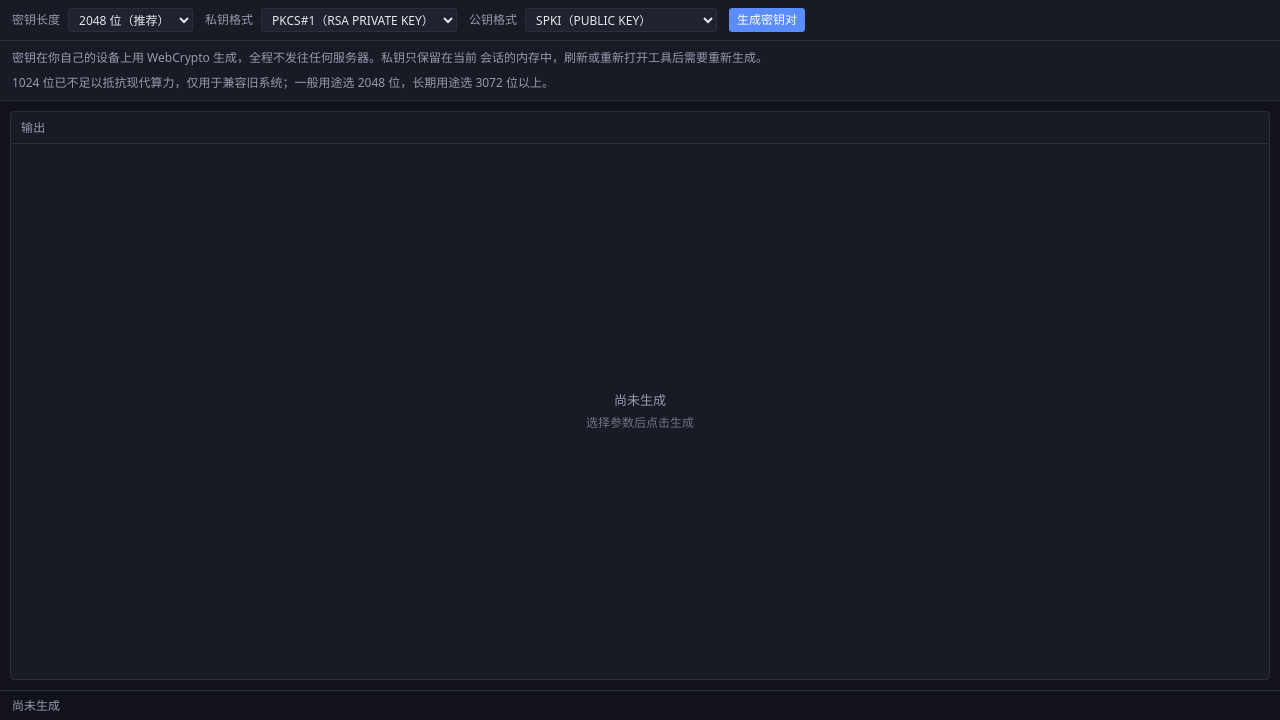
Test: RSA 密钥对生成器 › 重新点击生成后应用新参数并刷新结果
Click the button "生成密钥对": (767, 20) x1=729 y1=8 x2=805 y2=32
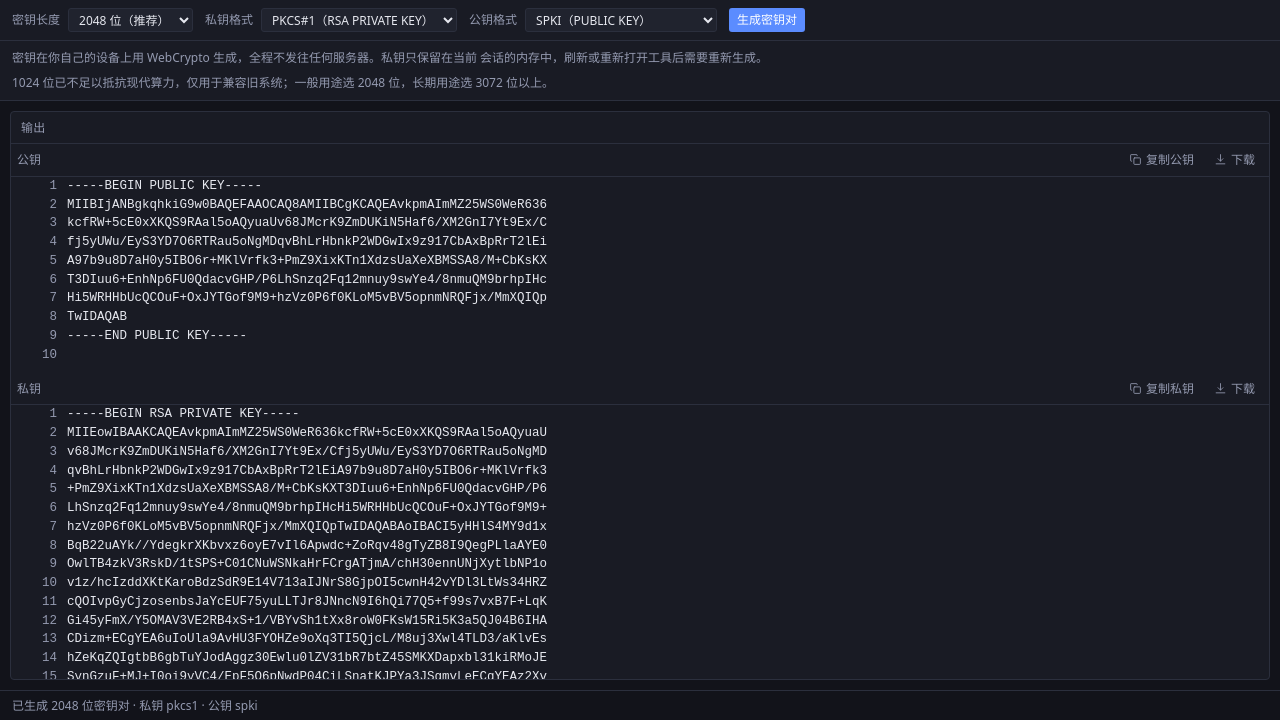
Note: 密钥长度与私钥格式一起改：只改长度的话，「私钥格式写死 pkcs1」的变异仍可存活
Select "1024 位" in the dropdown labelled "密钥长度": (130, 20) x1=68 y1=8 x2=193 y2=32
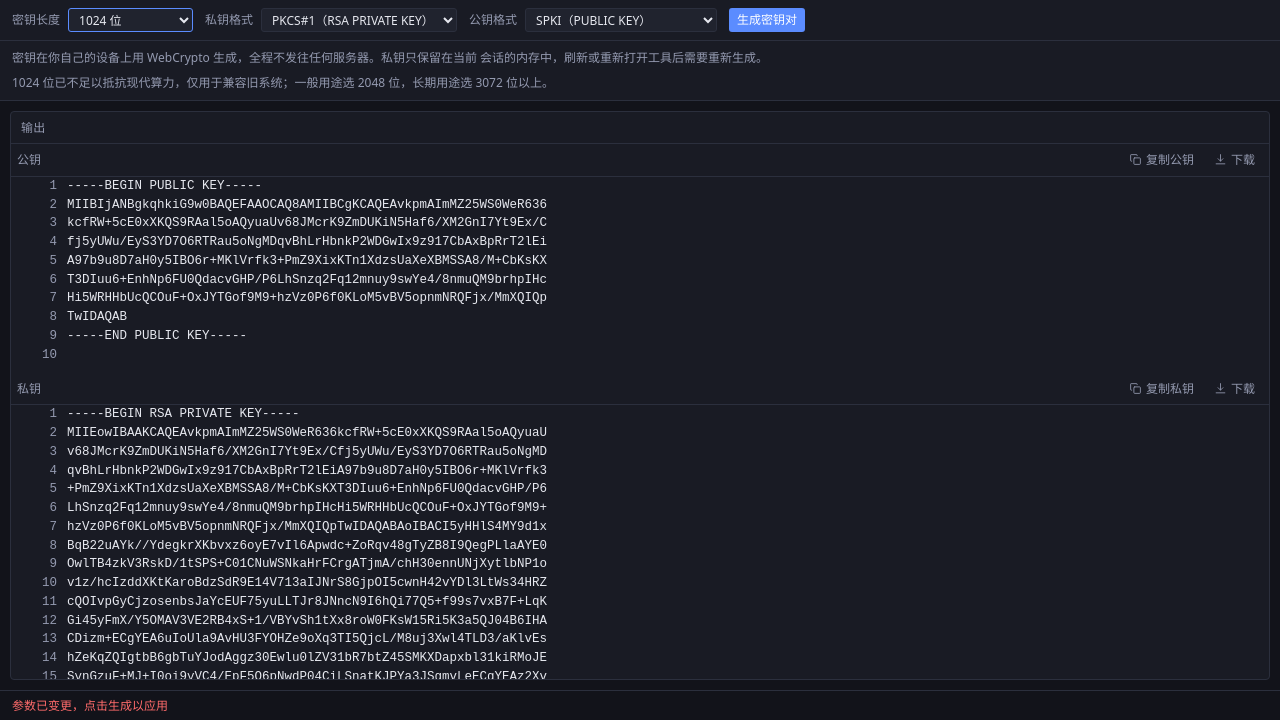
Select "PKCS#8（PRIVATE KEY）" in the dropdown labelled "私钥格式": (359, 20) x1=261 y1=8 x2=457 y2=32
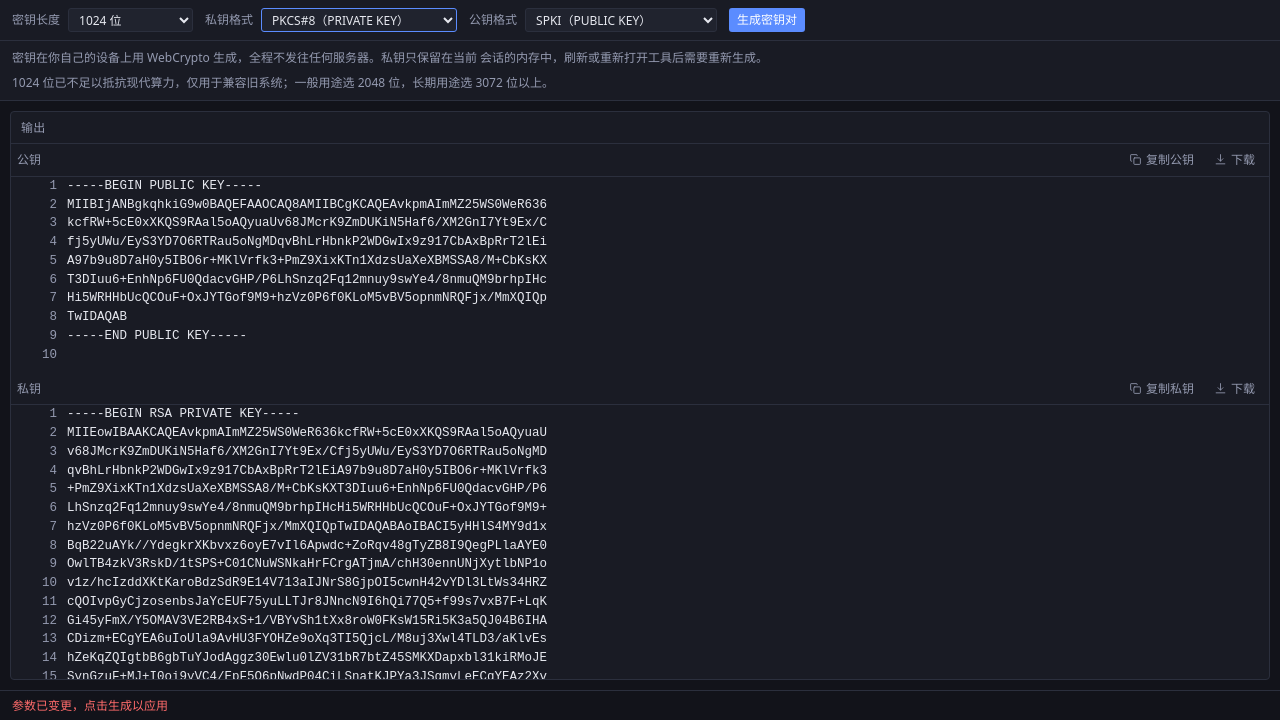
Click the button "生成密钥对": (767, 20) x1=729 y1=8 x2=805 y2=32
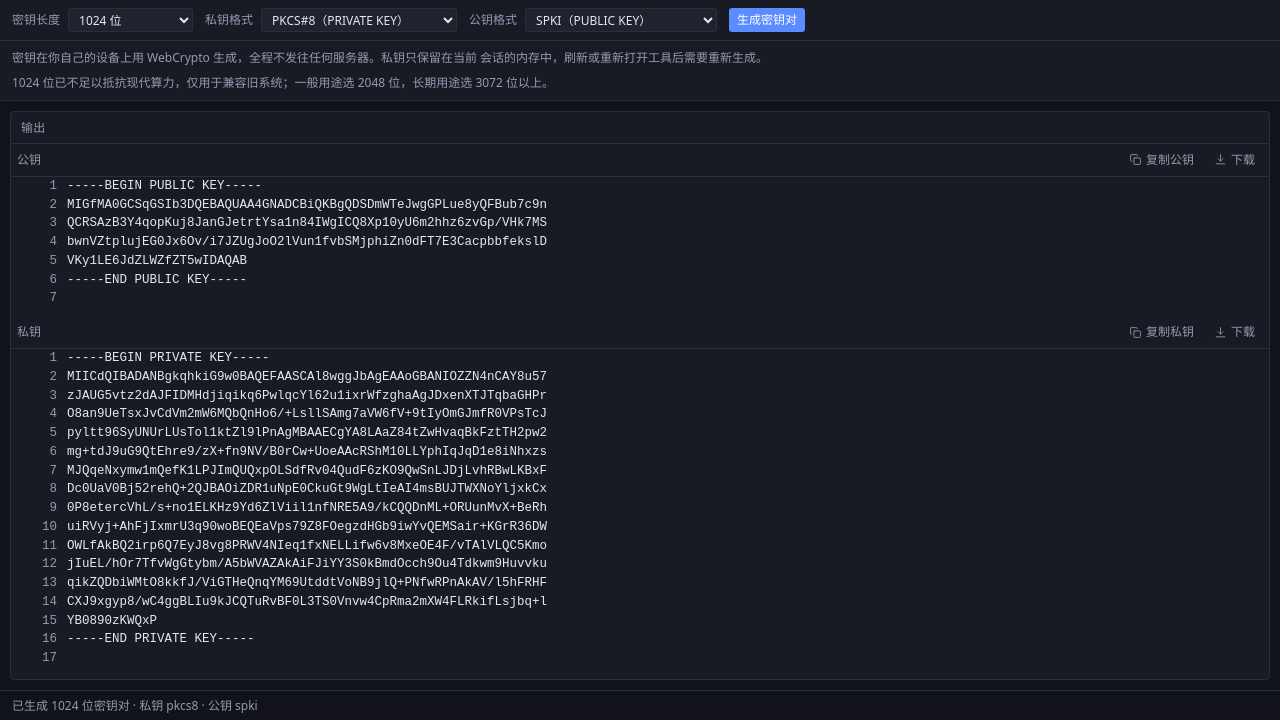
expect the text "已生成 1024 位密钥对 · 私钥 pkcs8 · 公钥 spki" is shown: met, box x1=12 y1=697 x2=258 y2=714
expect the text "参数已变更" is gone: met
